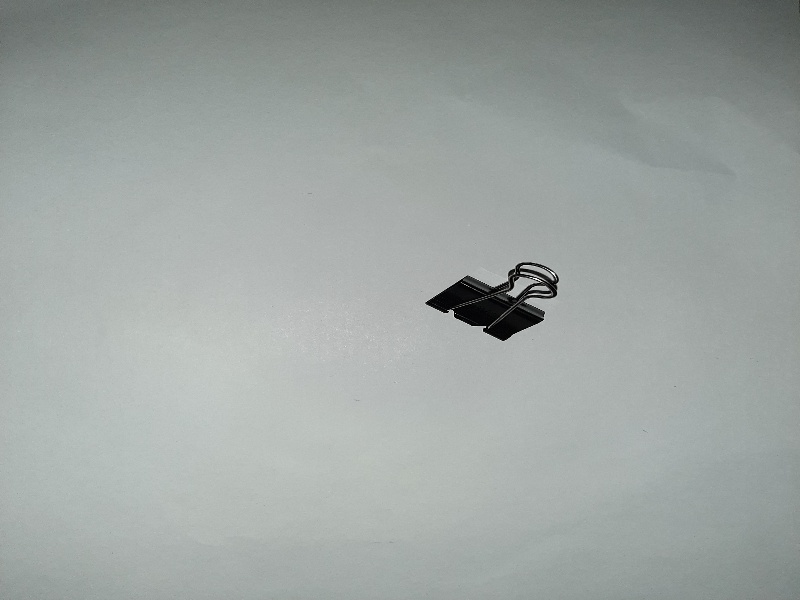Big Paperclip: (421, 242, 571, 347)
